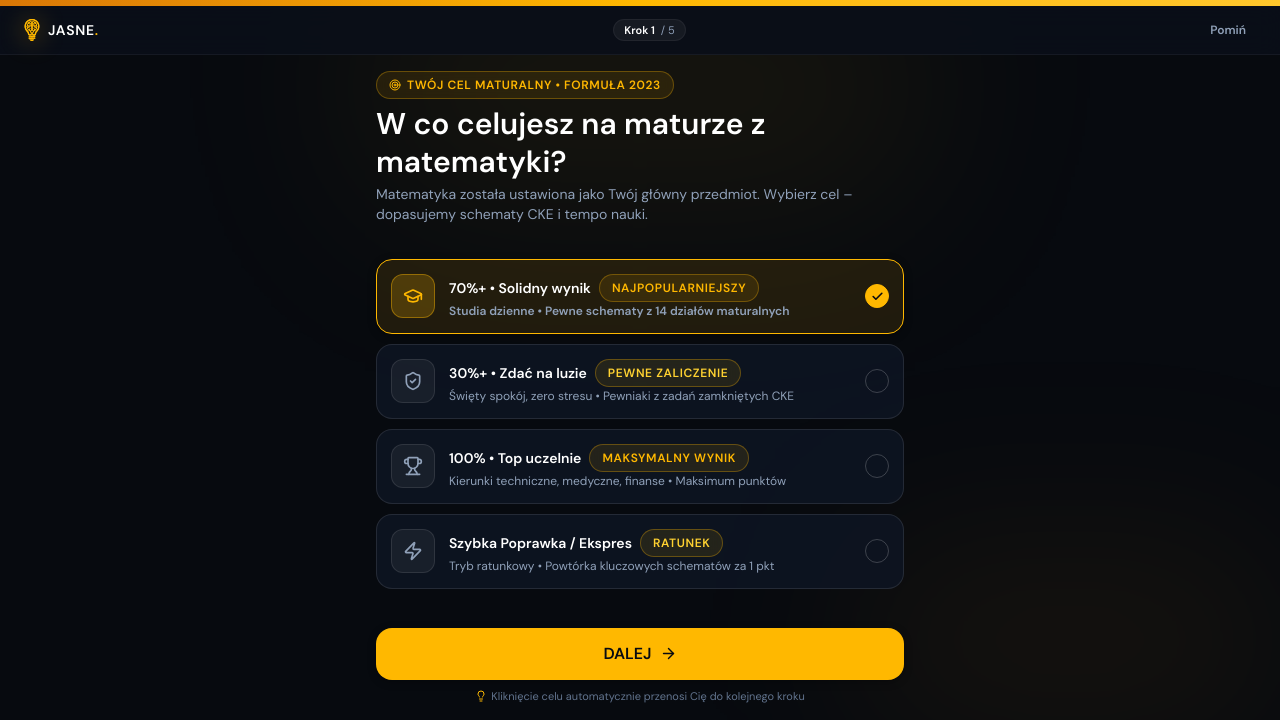
Scenario: OnboardingOverlay Component › advances from Step 1 to Step 2 with the CKE quadratic graph task
The image size is (1280, 720).
Click the button "DALEJ" at (640, 654), box top-left (376, 628), bottom-right (904, 680)
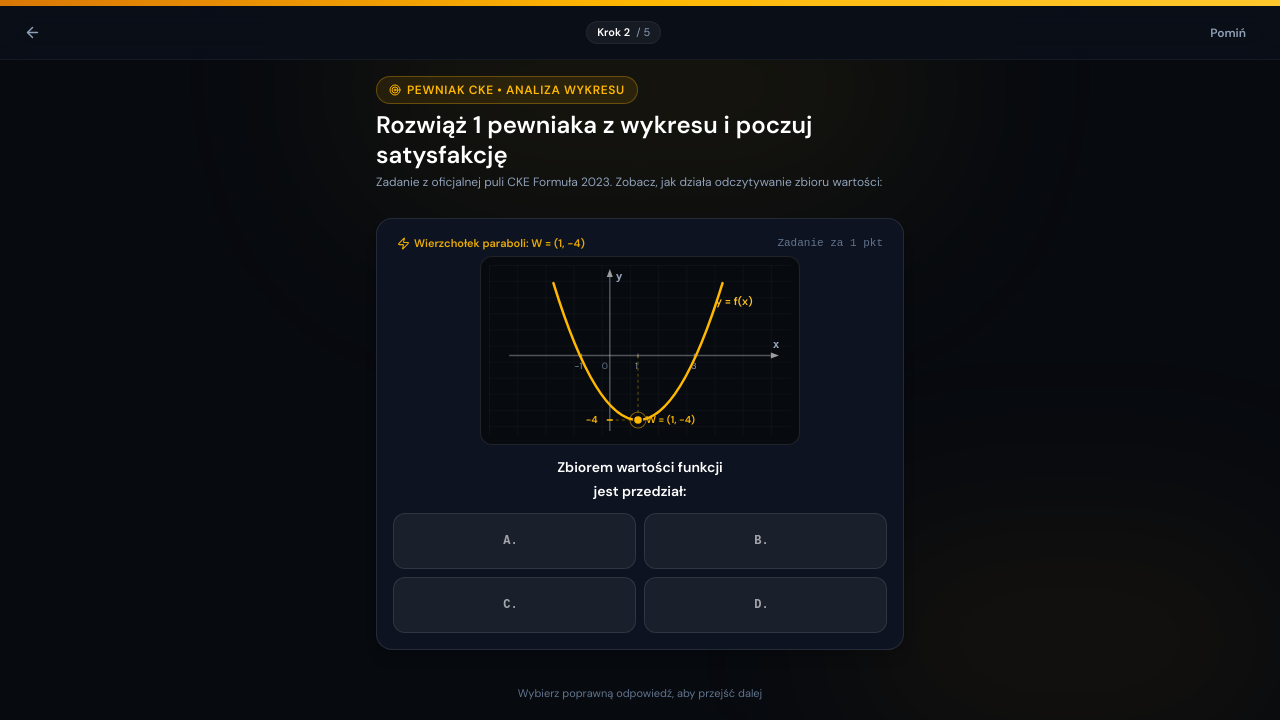
Check: the text "PEWNIAK CKE • ANALIZA WYKRESU" is shown, box top-left (407, 81), bottom-right (625, 99)
Check: the text "Wierzchołek paraboli: W = (1, -4)" is shown, box top-left (397, 235), bottom-right (585, 252)
Check: the text "Zbiorem wartości funkcji jest przedział:" is shown, box top-left (557, 458), bottom-right (723, 500)
